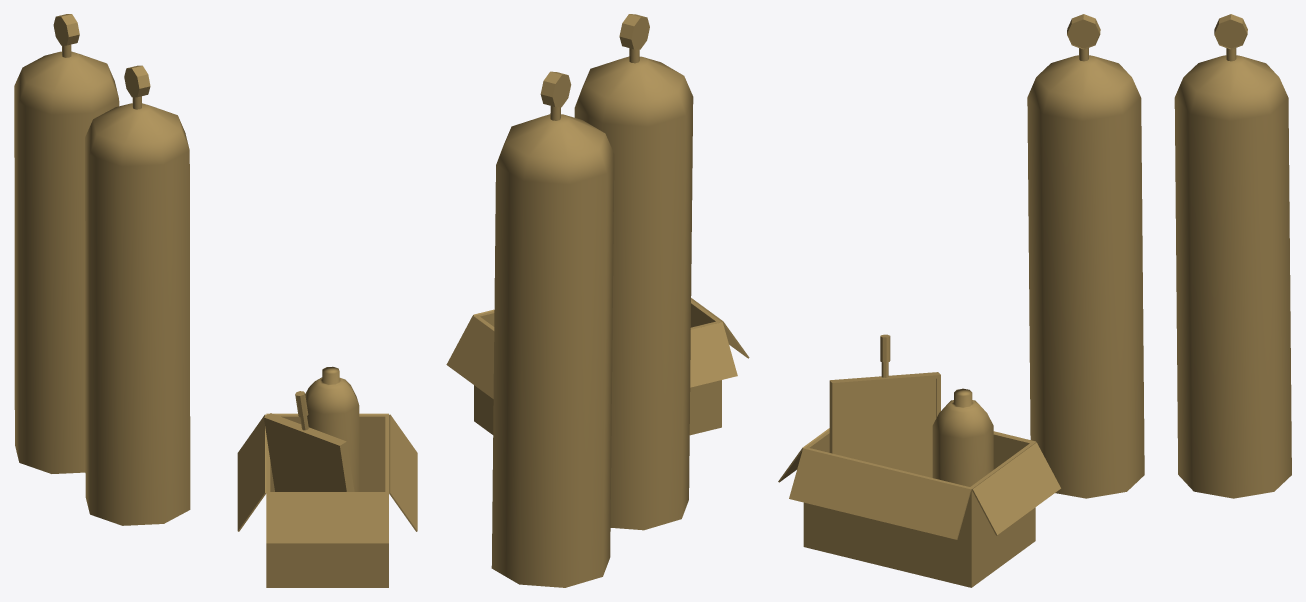
File: Tubos_Gas.fbx
The picture shows the model from 3 angles, left to right: view 1: azimuth 30°, elevation 25°; view 2: azimuth 150°, elevation 25°; view 3: azimuth 270°, elevation 25°; orthographic projection. The views are drawn at different scales.
Visible parts, largest first — view 1: pCylinder160, pCylinder158, pCylinder313; view 2: pCylinder158, pCylinder160, pCylinder313; view 3: pCylinder158, pCylinder160, pCylinder313.
Boxes of the visible parts, x1,y1,x2,y2 form: pCylinder160: (85, 65, 190, 525); pCylinder158: (14, 14, 119, 473); pCylinder313: (237, 366, 417, 587); pCylinder158: (491, 71, 614, 587); pCylinder160: (574, 14, 693, 530); pCylinder313: (446, 298, 749, 435); pCylinder158: (1174, 14, 1291, 498); pCylinder160: (1027, 14, 1144, 498); pCylinder313: (778, 334, 1060, 587).
Bounding box in the file's own units: 0.6739 × 1.1 × 1.08.
